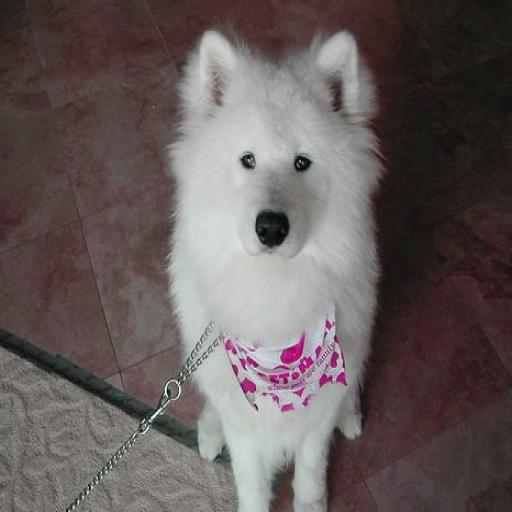dog_face: (184, 28, 368, 269)
